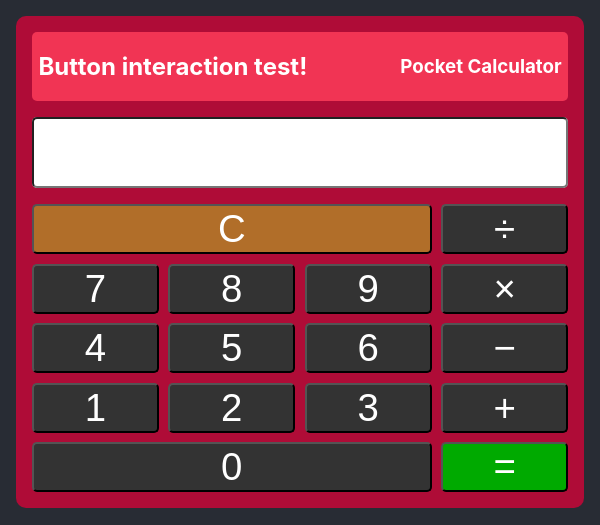
Test case: Calculator component › button interactions › should render the correct calculated result for 1+1
Click the button with test id "One". click: (96, 408)
box: [32,383,159,433]
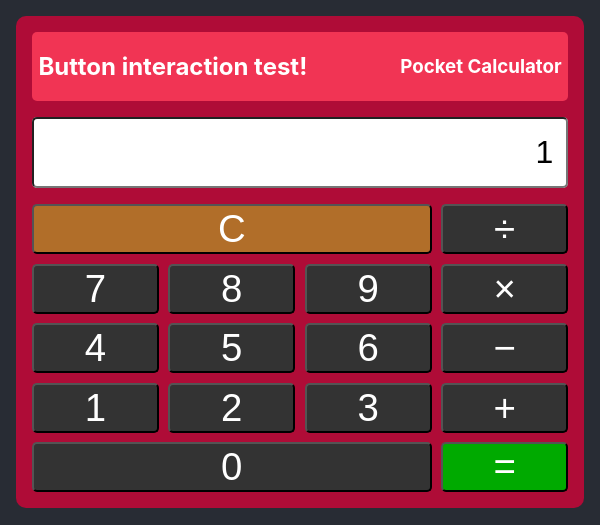
Click the button with test id "Add". click: (505, 408)
box: [441,383,568,433]
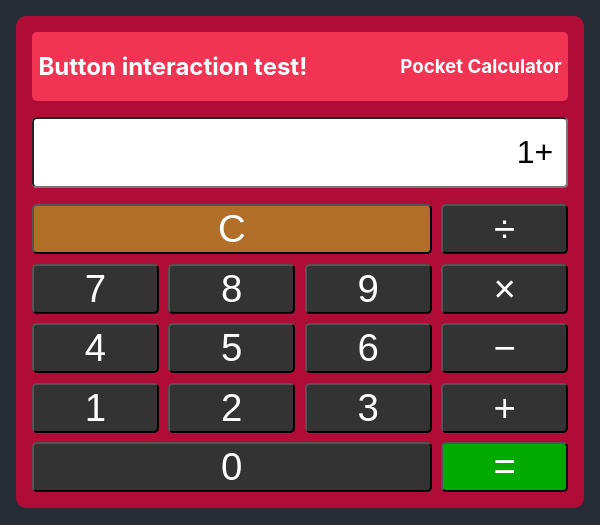
Click the button with test id "One". click: (96, 408)
box: [32,383,159,433]
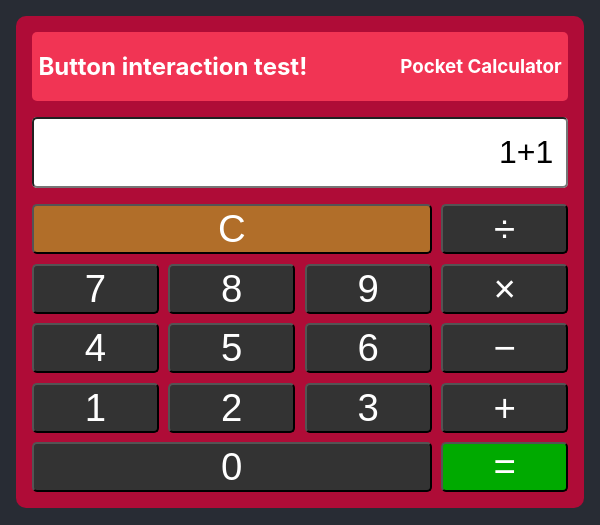
Check: the field holds "1+1", box [32,117,568,188]
Click the button with test id "Equal". click: (505, 467)
box: [441,442,568,492]
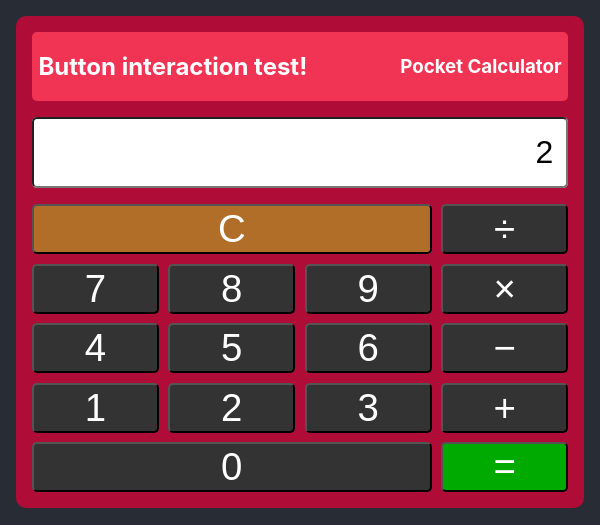
Check: the field holds "2", box [32,117,568,188]
